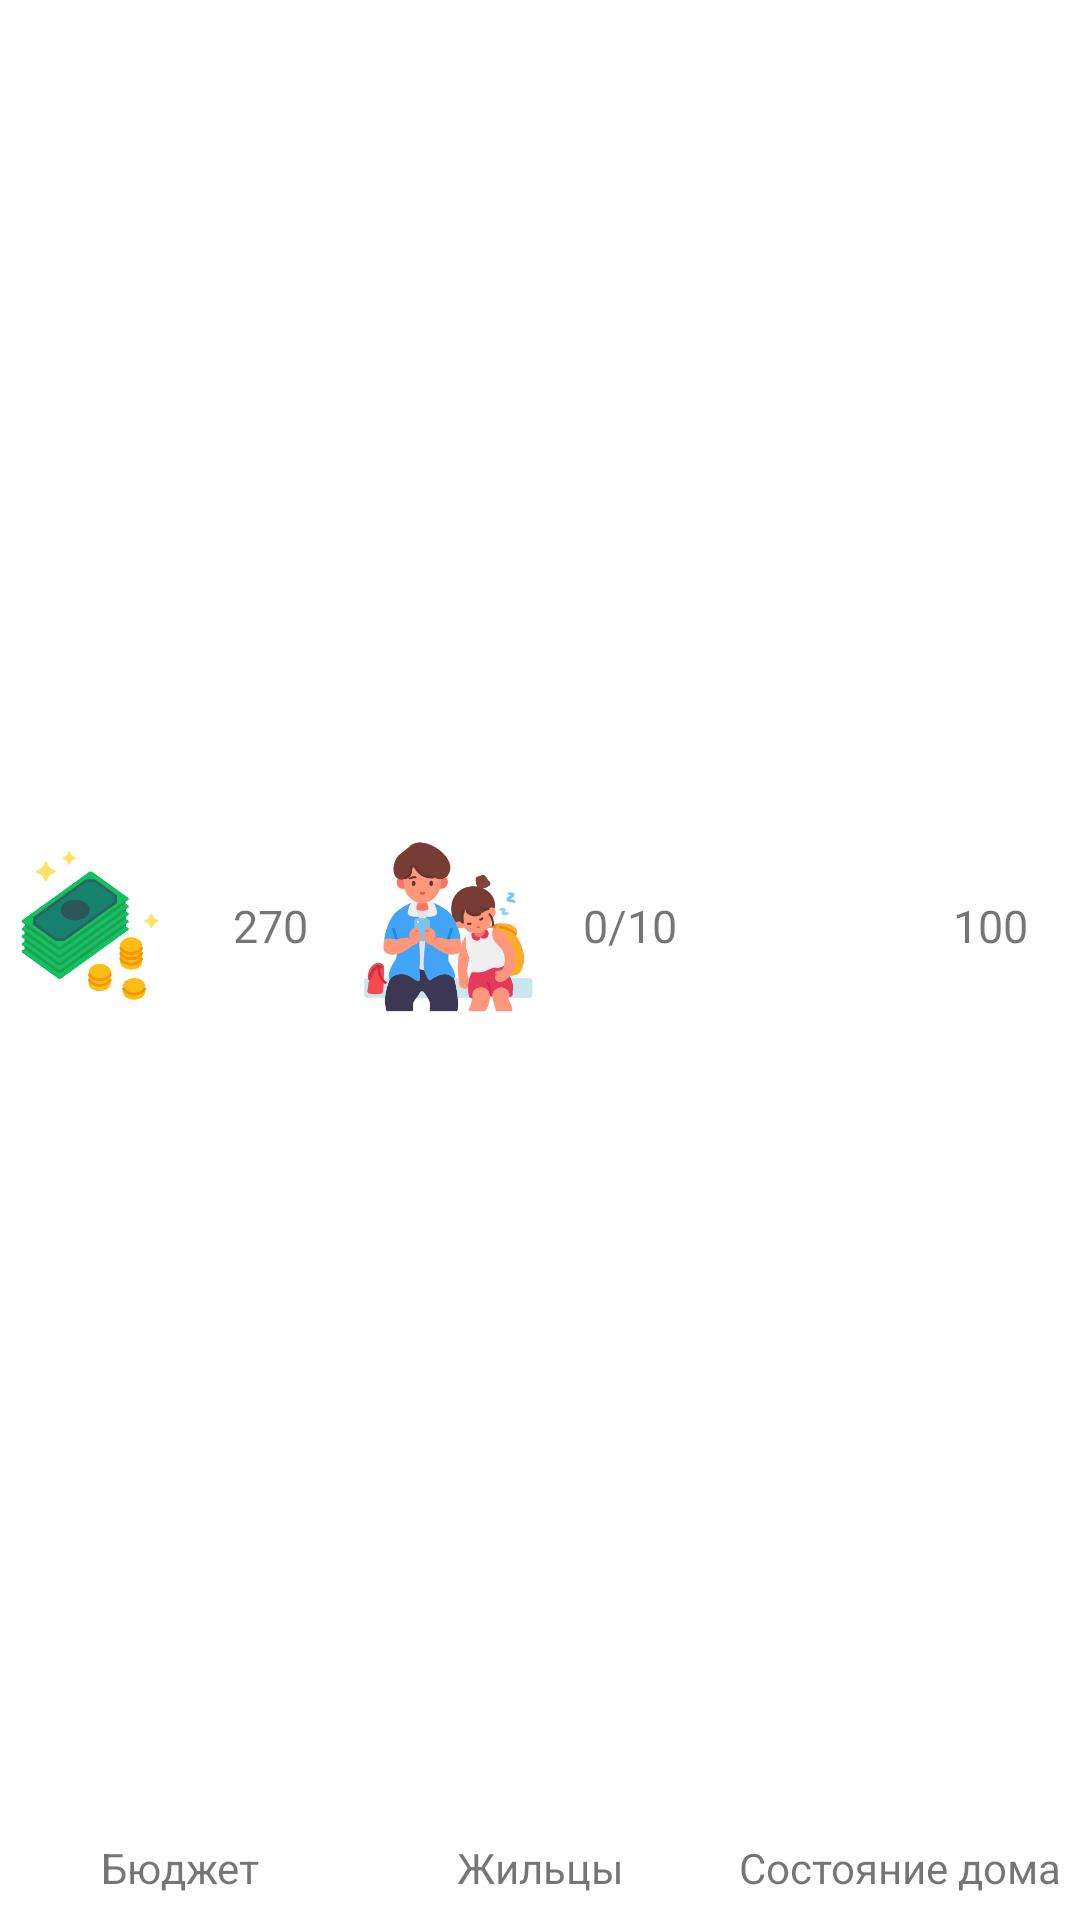

Icons on this 1080 x 1920 Android screen, each with the point to tap as (x,y):
cash: (89,925)
people: (448,927)
